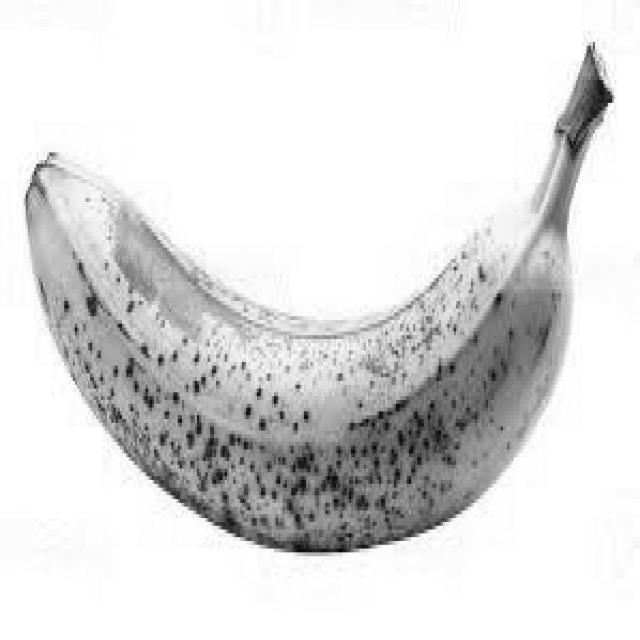Overripe: (8, 24, 622, 574)
